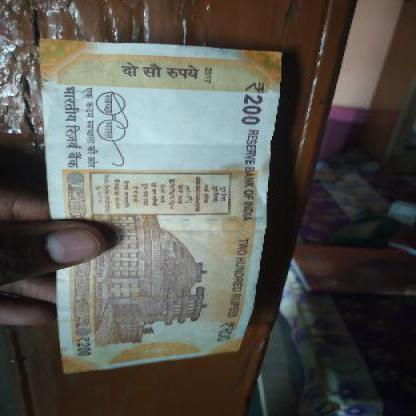New200Back: (40, 41, 276, 362)
